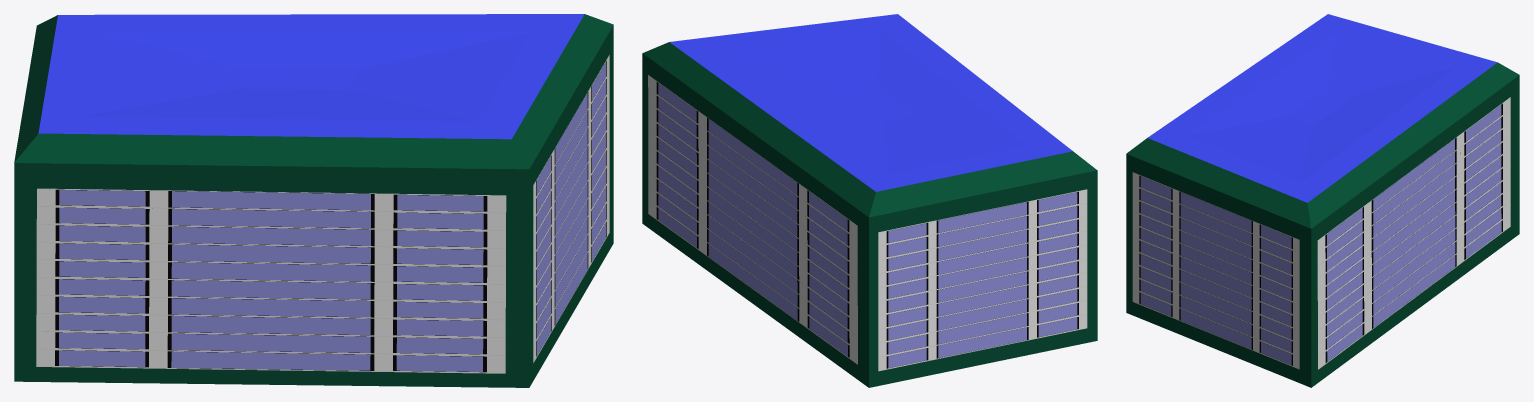
The model's file is WestphaliaApartments.fbx.
The picture shows the model from 3 angles, left to right: view 1: azimuth 30°, elevation 25°; view 2: azimuth 150°, elevation 25°; view 3: azimuth 270°, elevation 25°; orthographic projection. The views are drawn at different scales.
Visible parts, largest first — view 1: WestphaliaApartments, Window.003, Window; view 2: WestphaliaApartments, Window.002, Window.001; view 3: WestphaliaApartments, Window.001, Window.
Boxes of the visible parts, left/top/right/bottom form: WestphaliaApartments: left=14, top=14, right=613, bottom=387; Window.003: left=36, top=188, right=506, bottom=373; Window: left=533, top=55, right=609, bottom=362; WestphaliaApartments: left=642, top=14, right=1097, bottom=387; Window.002: left=878, top=189, right=1087, bottom=371; Window.001: left=648, top=75, right=857, bottom=364; WestphaliaApartments: left=1126, top=14, right=1519, bottom=387; Window.001: left=1317, top=97, right=1510, bottom=369; Window: left=1132, top=172, right=1299, bottom=369.
Size of the model in its own units: 7078 by 2731 by 5604.
